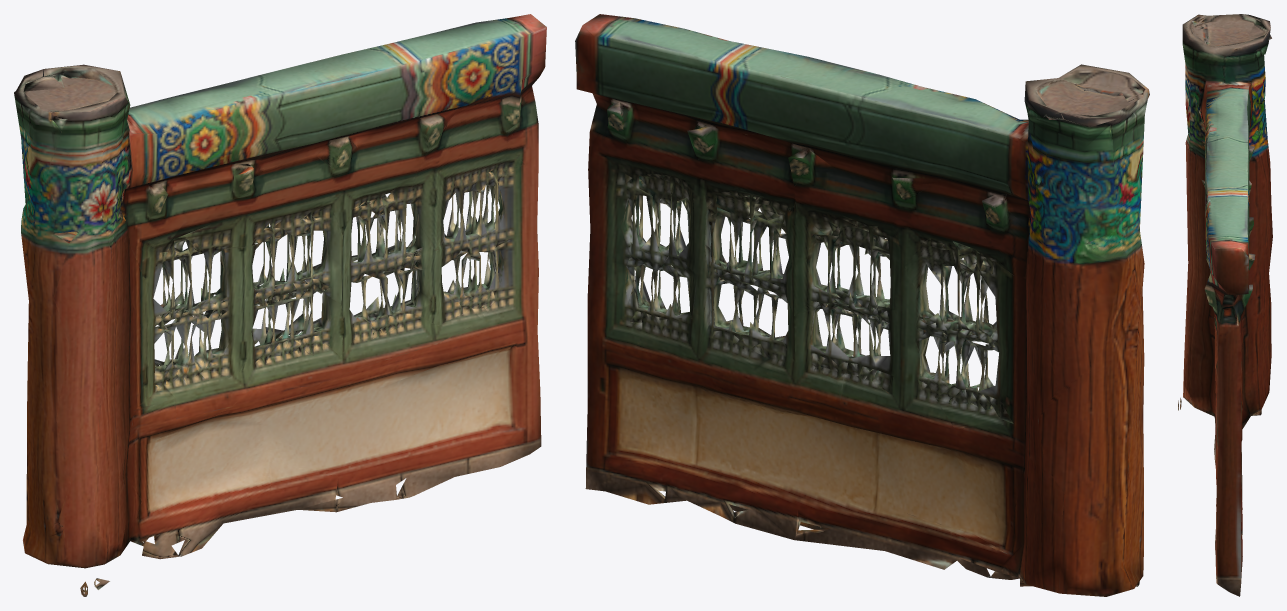
Rendered from 경복궁_벽모듈.glb.
3 views of the same model, side by side, from view 1: azimuth 30°, elevation 25°; view 2: azimuth 150°, elevation 25°; view 3: azimuth 270°, elevation 25° (orthographic). The views are drawn at different scales.
Parts seen in each view (by area): view 1: texture_mapping; view 2: texture_mapping; view 3: texture_mapping.
Part boxes in pixels (x1,y1,x2,y2): texture_mapping: (14, 14, 546, 596); texture_mapping: (575, 14, 1149, 596); texture_mapping: (1178, 14, 1272, 596).
Size of the model in its own units: 0.9866 by 0.8948 by 0.196.
1 material, 1 textured.
